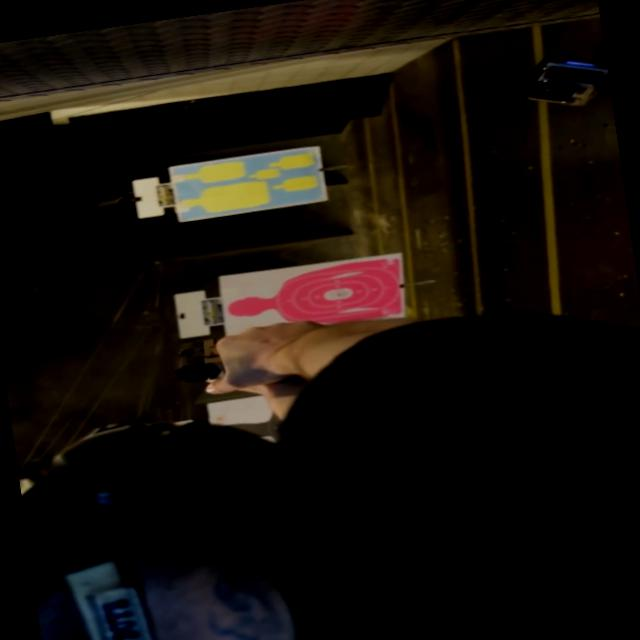handgun: (144, 321, 307, 388)
